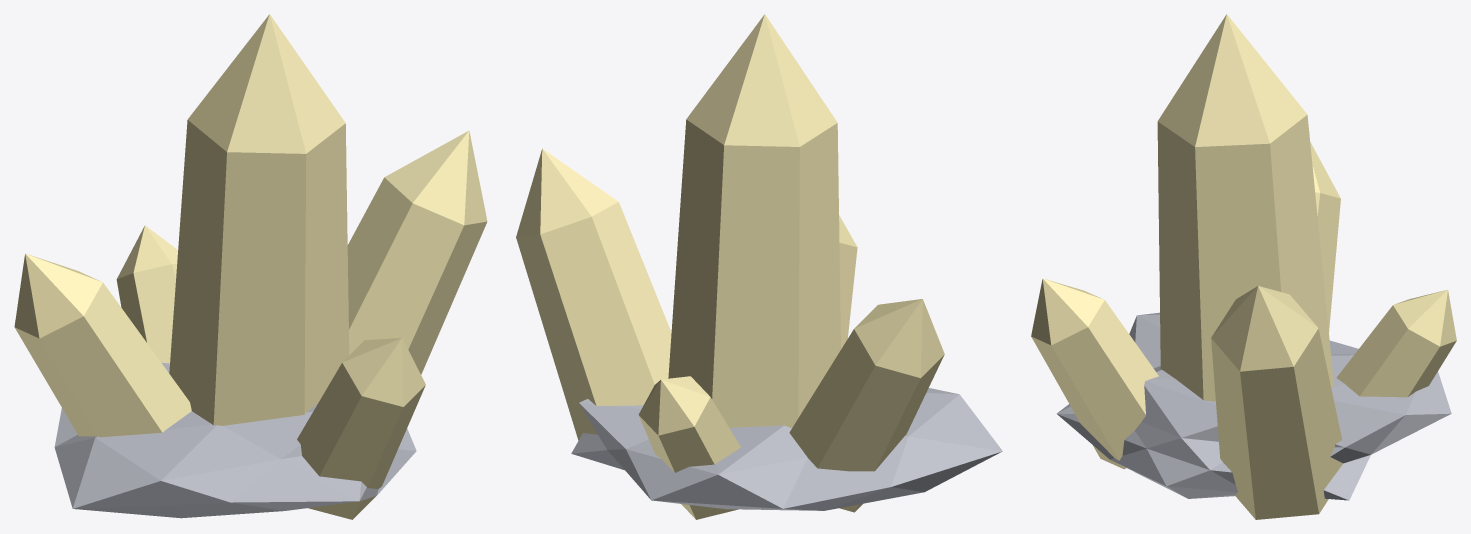
Rendered from crystal.fbx.
3 renders of one model, left to right at view 1: azimuth 30°, elevation 25°; view 2: azimuth 150°, elevation 25°; view 3: azimuth 270°, elevation 25°, orthographic. The views are drawn at different scales.
Visible parts, largest first — view 1: Glow_crystal, Rock_crystal; view 2: Glow_crystal, Rock_crystal; view 3: Glow_crystal, Rock_crystal.
Boxes of the visible parts, x1,y1,x2,y2 form: Glow_crystal: (14, 14, 487, 519); Rock_crystal: (54, 362, 416, 518); Glow_crystal: (516, 14, 944, 519); Rock_crystal: (571, 388, 1002, 510); Glow_crystal: (1031, 14, 1456, 519); Rock_crystal: (1056, 312, 1451, 500).
Bounding box in the file's own units: 2.77 × 2.78 × 2.41.
